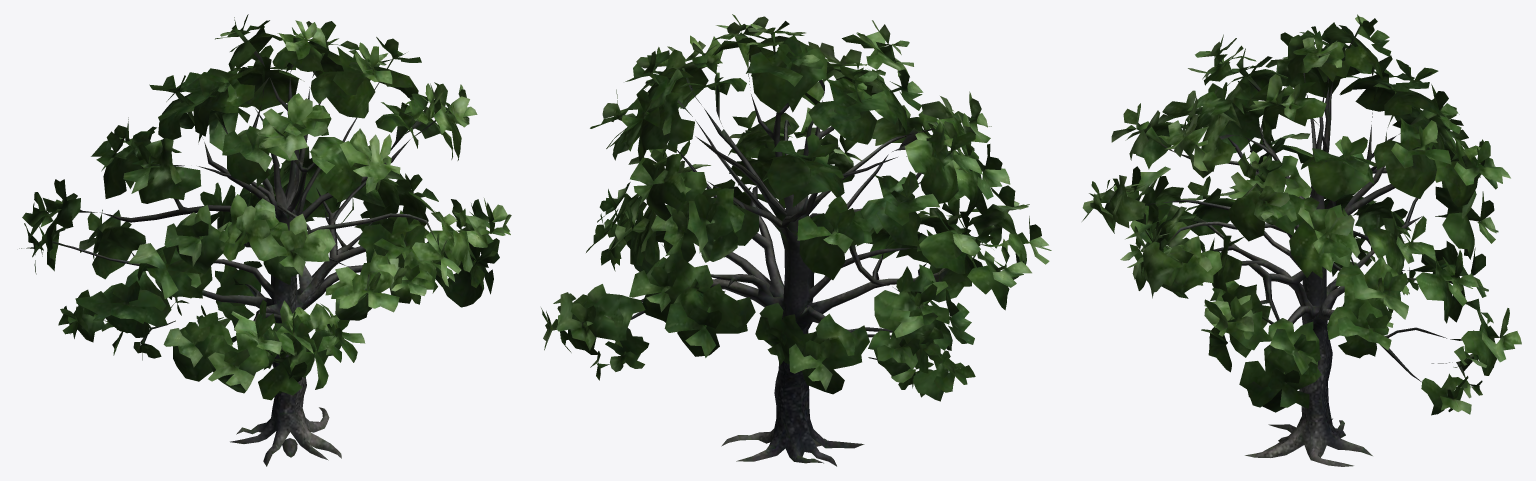
File: ashoka_a.glb
3 views of the same model, side by side, from view 1: azimuth 30°, elevation 25°; view 2: azimuth 150°, elevation 25°; view 3: azimuth 270°, elevation 25° (orthographic). The views are drawn at different scales.
Parts seen in each view (by area): view 1: tripo_node_2cf0404b-2927-4fb4-b48c-59063b9c2972; view 2: tripo_node_2cf0404b-2927-4fb4-b48c-59063b9c2972; view 3: tripo_node_2cf0404b-2927-4fb4-b48c-59063b9c2972.
Part boxes in pixels (bbox=[...]): tripo_node_2cf0404b-2927-4fb4-b48c-59063b9c2972: bbox=[19, 14, 511, 466]; tripo_node_2cf0404b-2927-4fb4-b48c-59063b9c2972: bbox=[541, 14, 1051, 466]; tripo_node_2cf0404b-2927-4fb4-b48c-59063b9c2972: bbox=[1082, 14, 1521, 466].
Bounding box in the file's own units: 8.63 × 8.5 × 8.06.
Materials: 1 (1 with a texture image).
